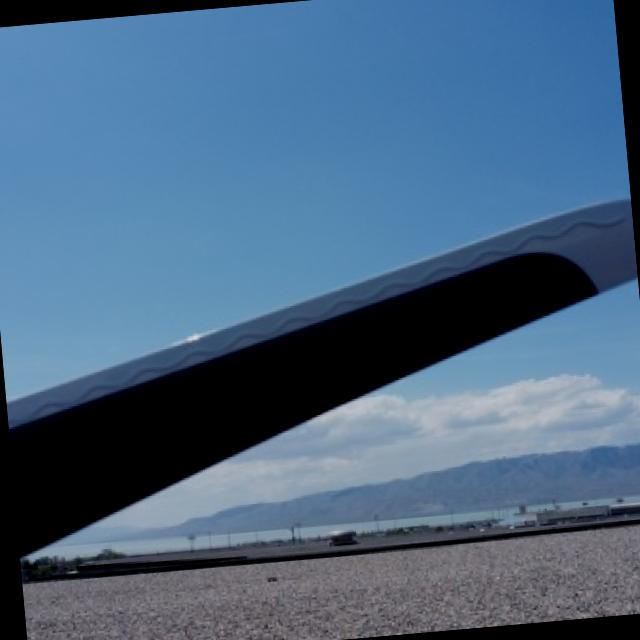healthy: (6, 197, 631, 552)
